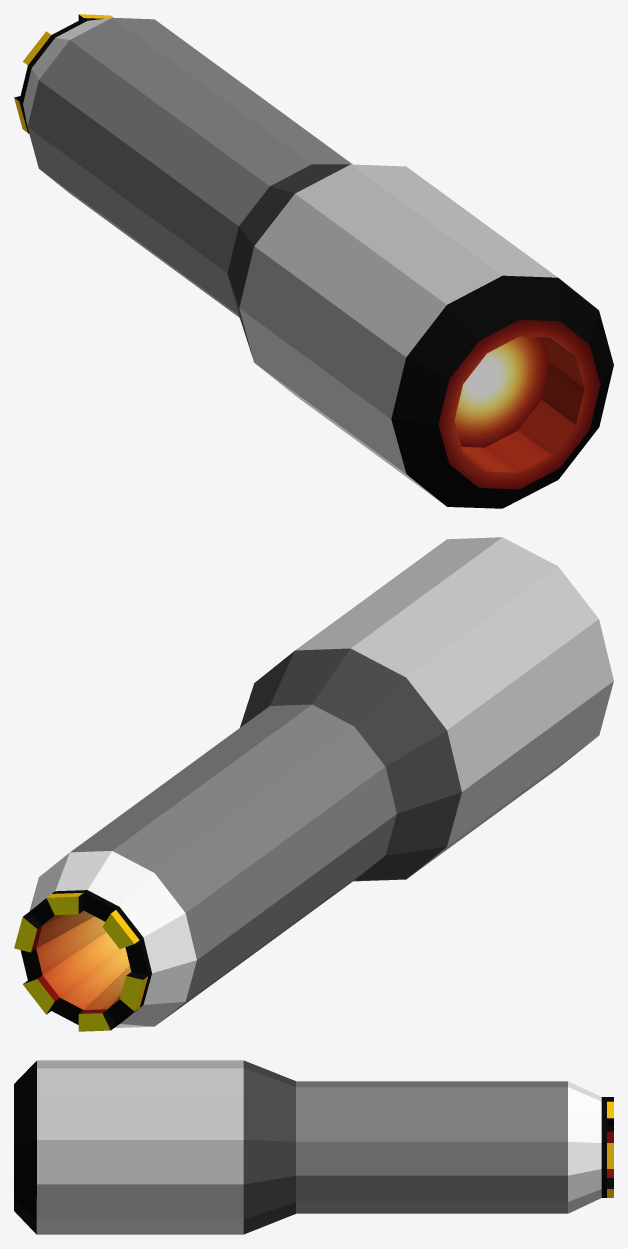
File: monoship.fbx
The picture shows the model from 3 angles, top to bottom: view 1: azimuth 30°, elevation 25°; view 2: azimuth 150°, elevation 25°; view 3: azimuth 270°, elevation 25°; orthographic projection. The views are drawn at different scales.
Parts seen in each view (by area): view 1: GUNship; view 2: GUNship; view 3: GUNship.
Part boxes in pixels (x1=…): GUNship: x1=14, y1=14, x2=613, y2=508; GUNship: x1=14, y1=537, x2=613, y2=1031; GUNship: x1=14, y1=1060, x2=613, y2=1234.
Bounding box in the file's own units: 360 × 360 × 1235.
